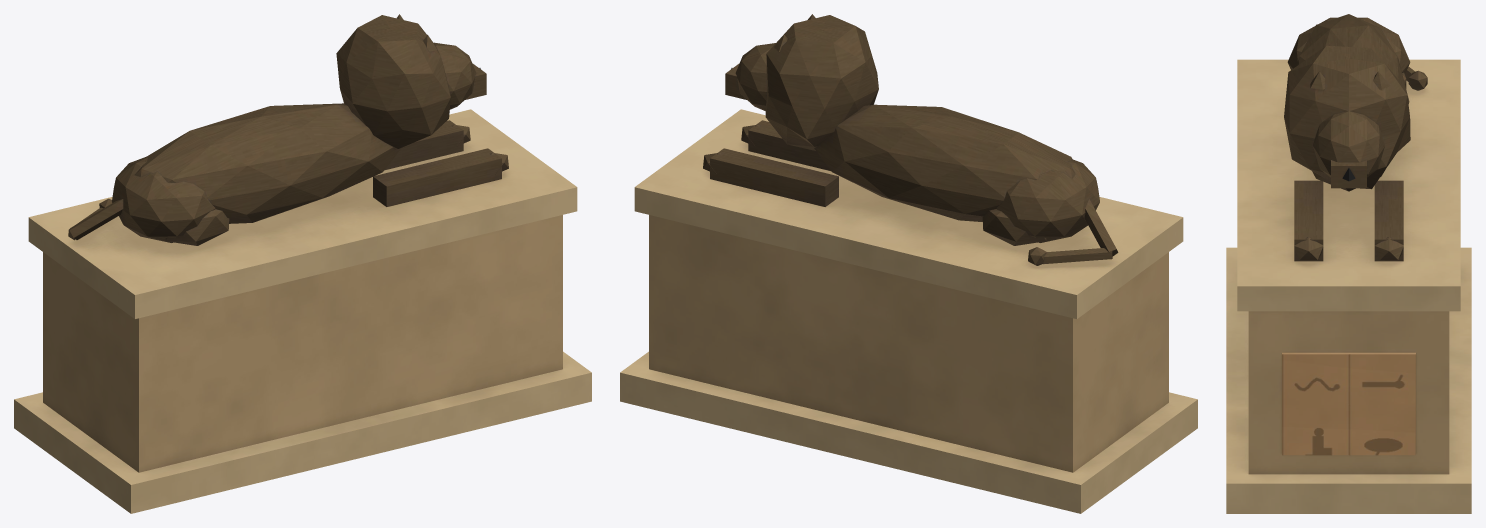
The model's file is lejonstaty_tex.glb.
3 views of the same model, side by side, from view 1: azimuth 30°, elevation 25°; view 2: azimuth 150°, elevation 25°; view 3: azimuth 270°, elevation 25° (orthographic). The views are drawn at different scales.
Parts seen in each view (by area): view 1: lejonstaty; view 2: lejonstaty; view 3: lejonstaty.
Boxes of the visible parts, left/top/right/bottom form: lejonstaty: left=14, top=14, right=591, bottom=513; lejonstaty: left=620, top=14, right=1197, bottom=513; lejonstaty: left=1226, top=14, right=1471, bottom=513.
Bounding box in the file's own units: 5 × 3.79 × 2.2.
Materials: 5 (4 with a texture image).
